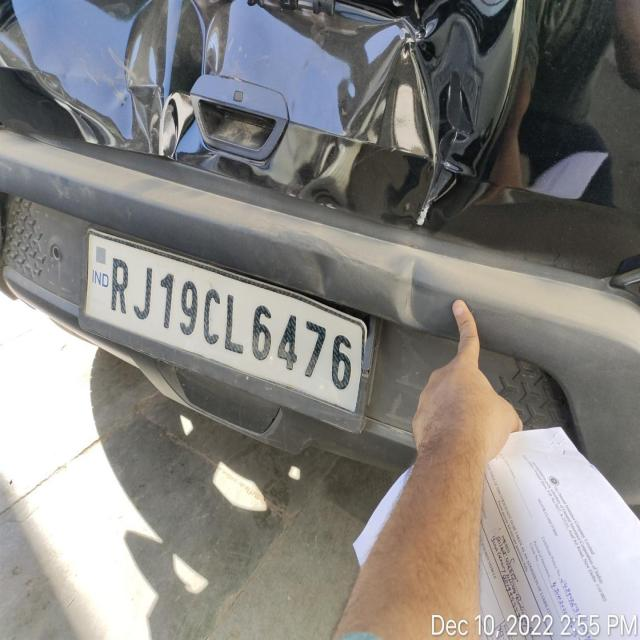damage: (72, 0, 538, 232), (296, 228, 443, 341)
